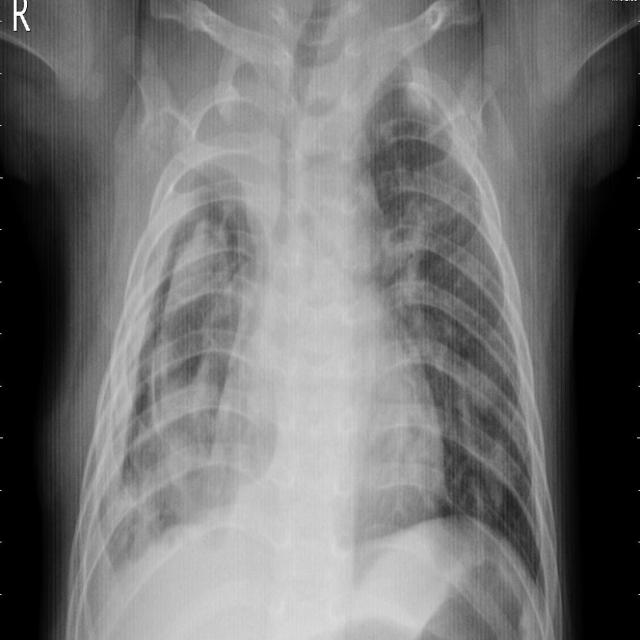high-pneumonia: (102, 357, 224, 566), (156, 111, 267, 304)
low-pneumonia: (359, 162, 495, 375)
